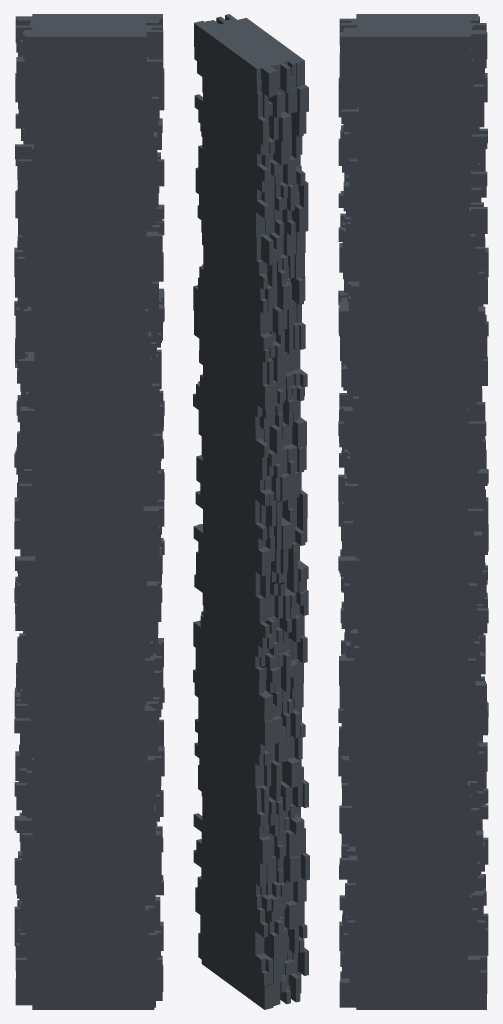
The model's file is greeble_wall.obj.
The picture shows the model from 3 angles, left to right: view 1: azimuth 90°, elevation 25°; view 2: azimuth 210°, elevation 25°; view 3: azimuth 270°, elevation 25°; orthographic projection. The views are drawn at different scales.
Visible parts, largest first — view 1: discombobulated_mesh_discombobulated_object.009; view 2: discombobulated_mesh_discombobulated_object.009; view 3: discombobulated_mesh_discombobulated_object.009.
Boxes of the visible parts, box(x1,y1,x2,y2) form: discombobulated_mesh_discombobulated_object.009: box(14, 14, 164, 1009); discombobulated_mesh_discombobulated_object.009: box(193, 14, 309, 1009); discombobulated_mesh_discombobulated_object.009: box(338, 14, 488, 1009).
Size of the model in its own units: 2 by 40 by 5.6.
Materials: 2 (1 with a texture image).
